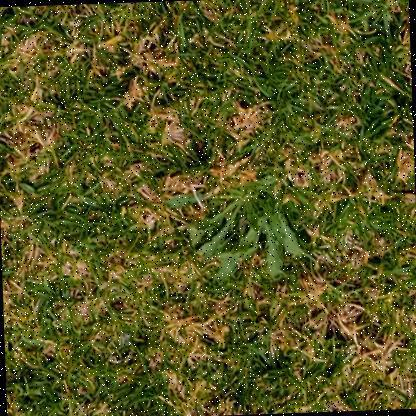Weeds: (164, 174, 304, 283)
